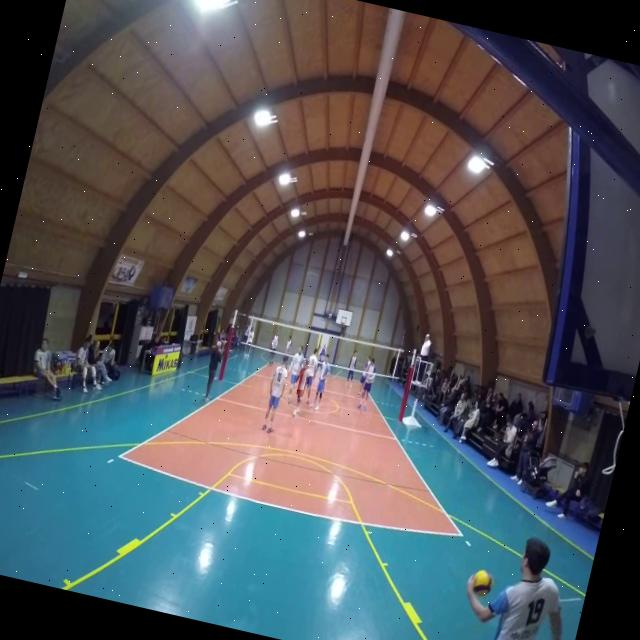Volleyball: (467, 564, 498, 602)
